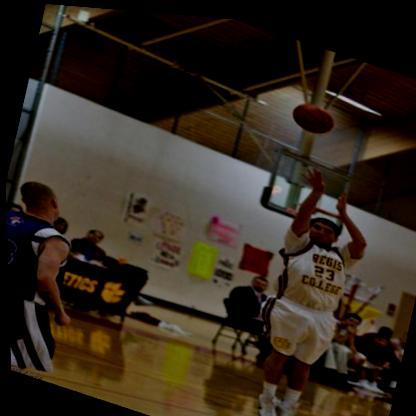basketball: (289, 94, 337, 132)
